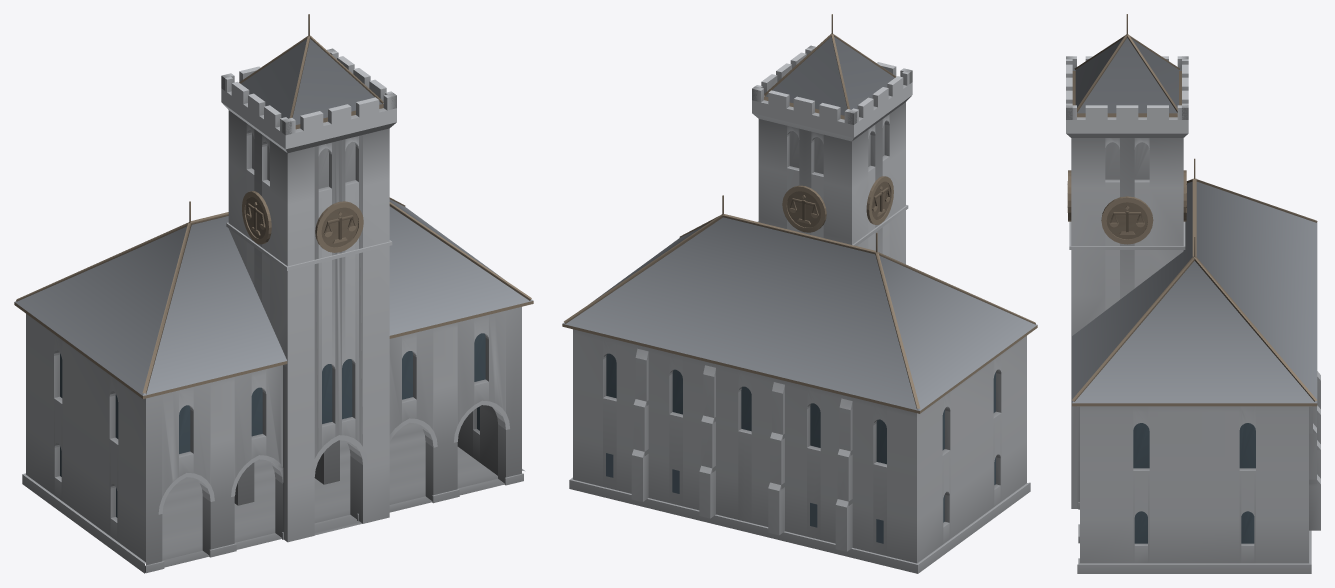
The model's file is sg_auction_house.glb.
3 renders of one model, left to right at view 1: azimuth 30°, elevation 25°; view 2: azimuth 150°, elevation 25°; view 3: azimuth 270°, elevation 25°, orthographic. The views are drawn at different scales.
Parts seen in each view (by area): view 1: sg_auction_house_SG_Stone, sg_auction_house_SG_Slate, sg_auction_house_SG_Joinery, sg_auction_house_SG_Glass; view 2: sg_auction_house_SG_Stone, sg_auction_house_SG_Slate, sg_auction_house_SG_Joinery, sg_auction_house_SG_Glass; view 3: sg_auction_house_SG_Stone, sg_auction_house_SG_Slate, sg_auction_house_SG_Joinery, sg_auction_house_SG_Glass.
Part boxes in pixels (x1=…): sg_auction_house_SG_Stone: x1=22, y1=48, x2=525, y2=573; sg_auction_house_SG_Slate: x1=15, y1=39, x2=533, y2=395; sg_auction_house_SG_Joinery: x1=14, y1=14, x2=533, y2=398; sg_auction_house_SG_Glass: x1=60, y1=333, x2=485, y2=517; sg_auction_house_SG_Stone: x1=569, y1=45, x2=1030, y2=573; sg_auction_house_SG_Slate: x1=562, y1=37, x2=1037, y2=410; sg_auction_house_SG_Joinery: x1=562, y1=14, x2=1037, y2=413; sg_auction_house_SG_Glass: x1=606, y1=353, x2=995, y2=543; sg_auction_house_SG_Stone: x1=1066, y1=56, x2=1320, y2=573; sg_auction_house_SG_Slate: x1=1072, y1=37, x2=1317, y2=403; sg_auction_house_SG_Joinery: x1=1067, y1=14, x2=1317, y2=406; sg_auction_house_SG_Glass: x1=1133, y1=423, x2=1255, y2=543.
Bounding box in the file's own units: 29.1 × 35.17 × 17.25.
